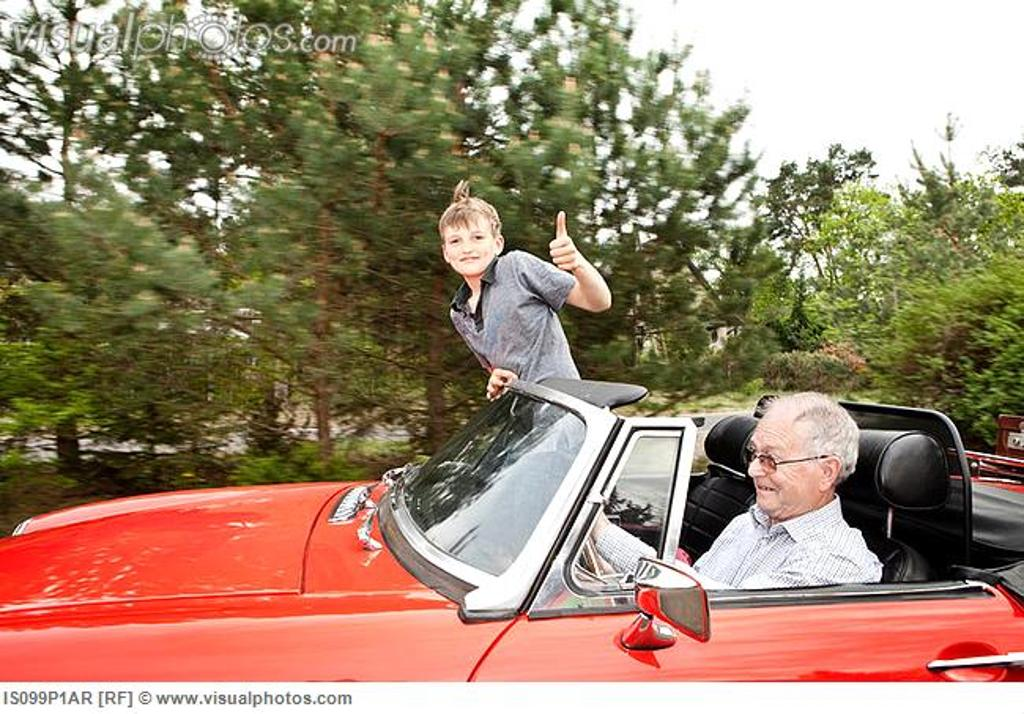face: (747, 412, 817, 510), (443, 218, 493, 274)
